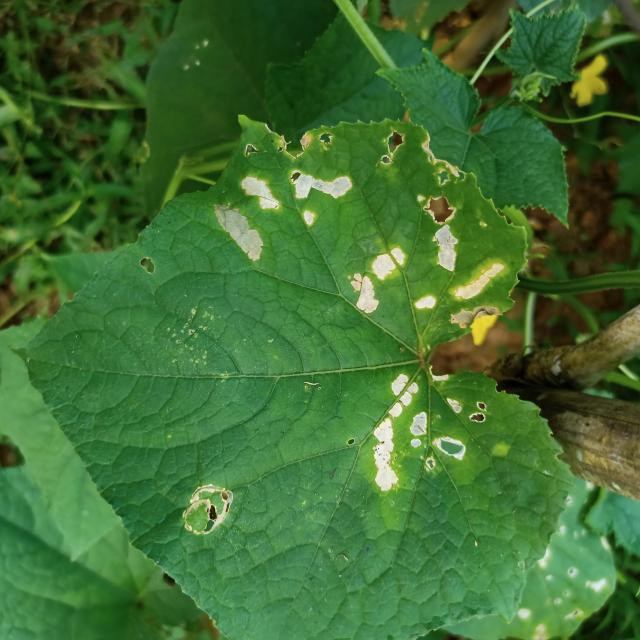disease_cucumber: (365, 362, 491, 496), (412, 162, 508, 331), (212, 156, 290, 264), (350, 238, 407, 319), (290, 164, 358, 230)
